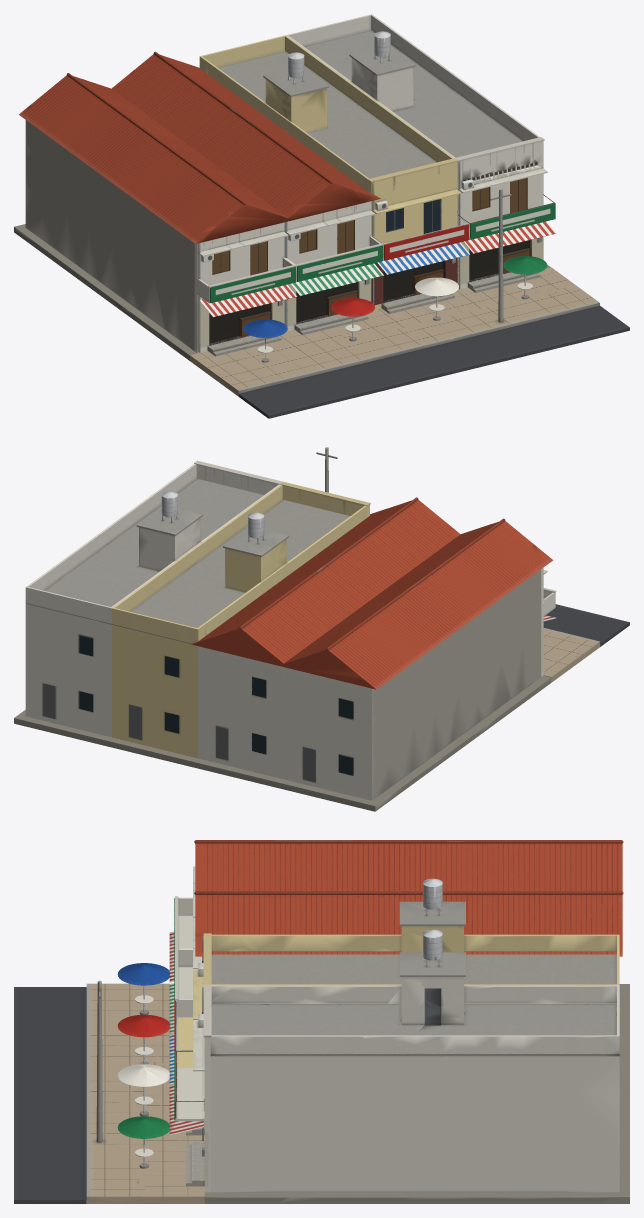
File: quang_trung_4_10.glb
3 views of the same model, one above another, from view 1: azimuth 30°, elevation 25°; view 2: azimuth 150°, elevation 25°; view 3: azimuth 270°, elevation 25° (orthographic). The views are drawn at different scales.
Visible parts, largest first — view 1: quang_trung_4_10; view 2: quang_trung_4_10; view 3: quang_trung_4_10.
Part boxes in pixels (box(x1,y1,x2,y2)): quang_trung_4_10: box(14, 14, 629, 418); quang_trung_4_10: box(14, 447, 629, 811); quang_trung_4_10: box(14, 840, 629, 1203).
Size of the model in its own units: 24.3 by 12.19 by 29.68.
Materials: 13 (13 with a texture image).
